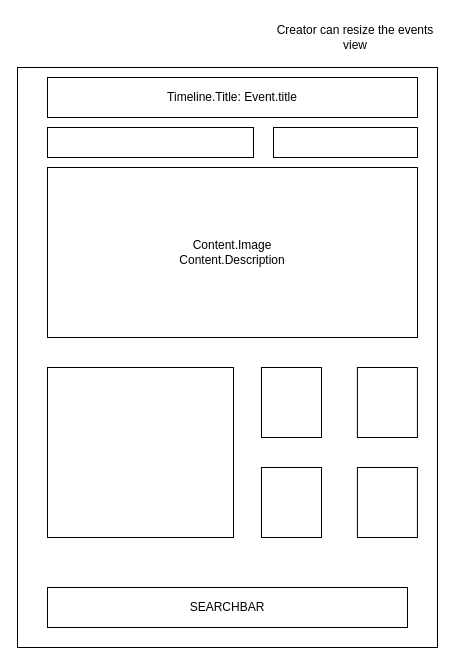
This 461x665 diagram has some shape labels left out. The shapes that lost their labels are listed below. From the top down, each one's box as (x1, y1, x2, y2) in pixels, then its label:
(46, 126, 254, 158): Event.date
(272, 126, 418, 158): Sort
